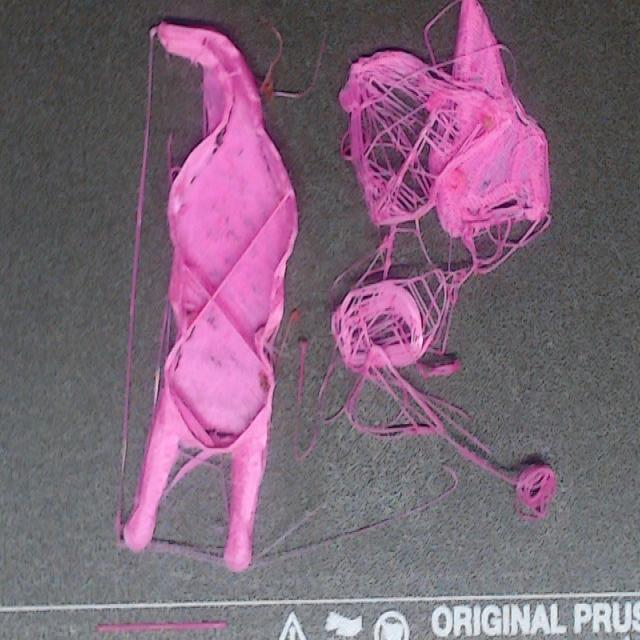mistake: (124, 23, 297, 571), (331, 0, 549, 433), (516, 464, 555, 516), (260, 20, 282, 99), (169, 159, 180, 184)
